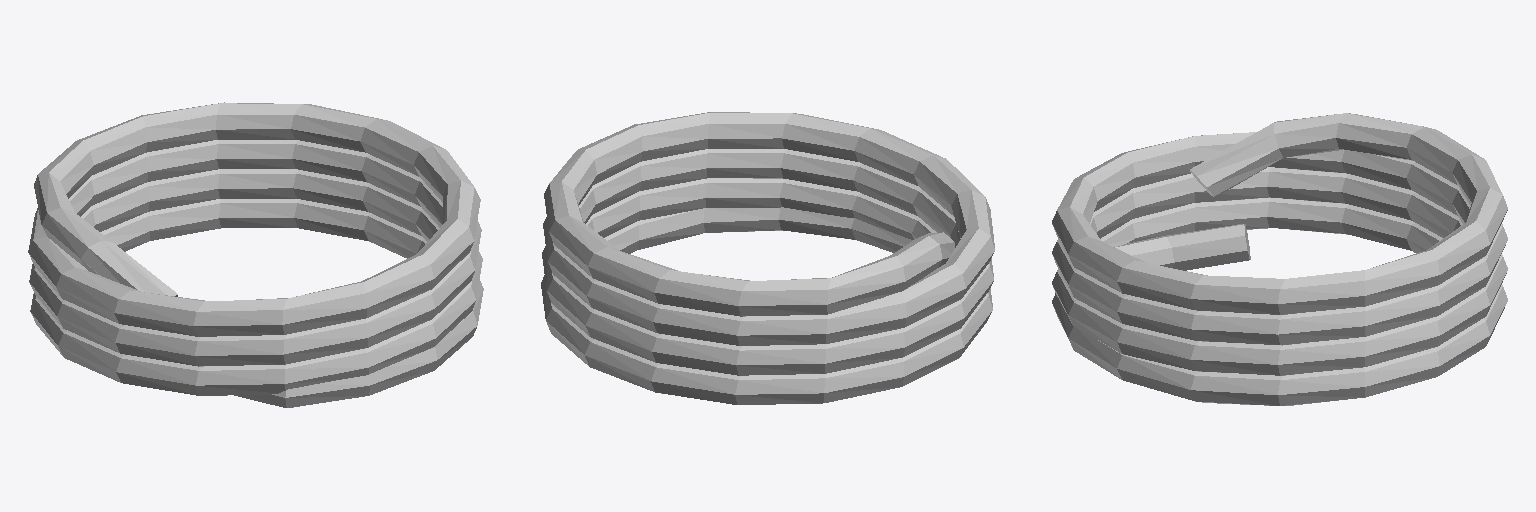
Rendered from grapple_rope_preview.sgm.obj.
The picture shows the model from 3 angles: view 1: azimuth 30°, elevation 25°; view 2: azimuth 150°, elevation 25°; view 3: azimuth 270°, elevation 25°; orthographic projection.
Visible parts, largest first — view 1: 0; view 2: 0; view 3: 0.
Boxes of the visible parts, box(x1,y1,x2,y2) form: 0: box(28, 102, 483, 407); 0: box(541, 112, 994, 404); 0: box(1052, 113, 1507, 405).
Size of the model in its own units: 0.3486 by 0.1107 by 0.3465.